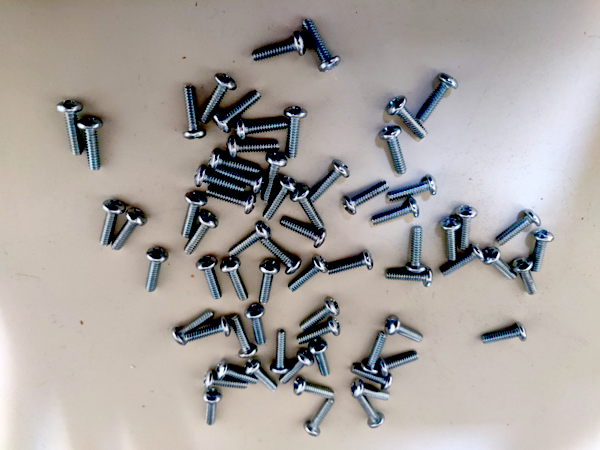shortscrew: (213, 90, 262, 134), (303, 18, 341, 72), (418, 73, 458, 123), (200, 73, 237, 125), (387, 96, 430, 140), (496, 209, 542, 247), (262, 176, 299, 222), (309, 161, 350, 202), (342, 180, 391, 214), (251, 32, 306, 62), (290, 185, 325, 232), (56, 99, 84, 157), (288, 254, 329, 293), (183, 211, 219, 255), (229, 221, 272, 257), (280, 217, 328, 249), (440, 244, 486, 277), (261, 239, 302, 276), (172, 310, 214, 346), (112, 208, 147, 251), (370, 196, 420, 226), (195, 166, 246, 195), (77, 117, 104, 171), (300, 296, 340, 332), (387, 174, 438, 202), (209, 149, 260, 177), (214, 167, 265, 195), (206, 187, 256, 215), (379, 126, 408, 174), (261, 153, 288, 203), (278, 349, 315, 385), (227, 135, 280, 160), (303, 398, 336, 438), (220, 257, 249, 302), (99, 200, 126, 247), (296, 317, 341, 345), (236, 118, 288, 142), (183, 86, 206, 140), (230, 315, 258, 359), (182, 192, 208, 239), (327, 251, 374, 277), (285, 107, 308, 160), (376, 350, 420, 377), (145, 247, 170, 293), (185, 317, 231, 342), (196, 256, 222, 300), (510, 257, 539, 296), (483, 248, 516, 282), (244, 359, 278, 392), (384, 315, 424, 343), (351, 364, 394, 390), (217, 359, 258, 386), (481, 322, 527, 346), (530, 229, 555, 273), (362, 333, 388, 374), (405, 226, 426, 274), (204, 369, 249, 391), (356, 395, 385, 429), (385, 268, 434, 288), (456, 205, 478, 249), (439, 218, 461, 261), (270, 329, 290, 376), (259, 260, 280, 304), (294, 378, 336, 399), (245, 304, 266, 346), (309, 337, 331, 377), (350, 380, 391, 401), (203, 389, 223, 426)
